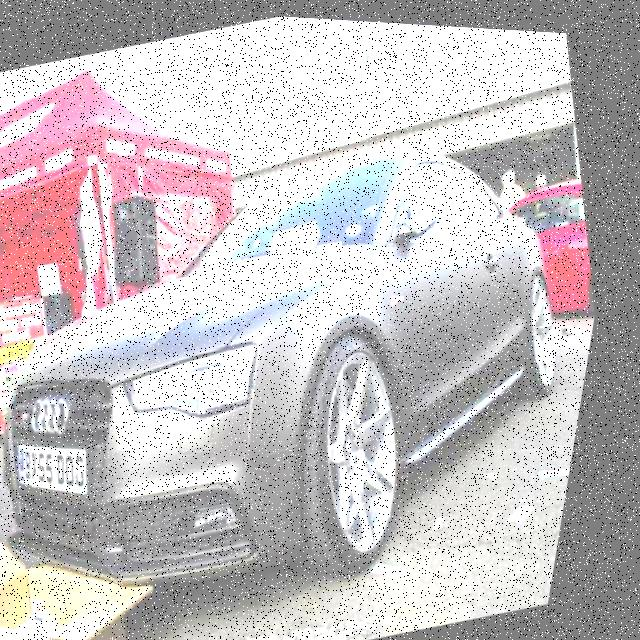license_plate: (21, 425, 118, 514)
